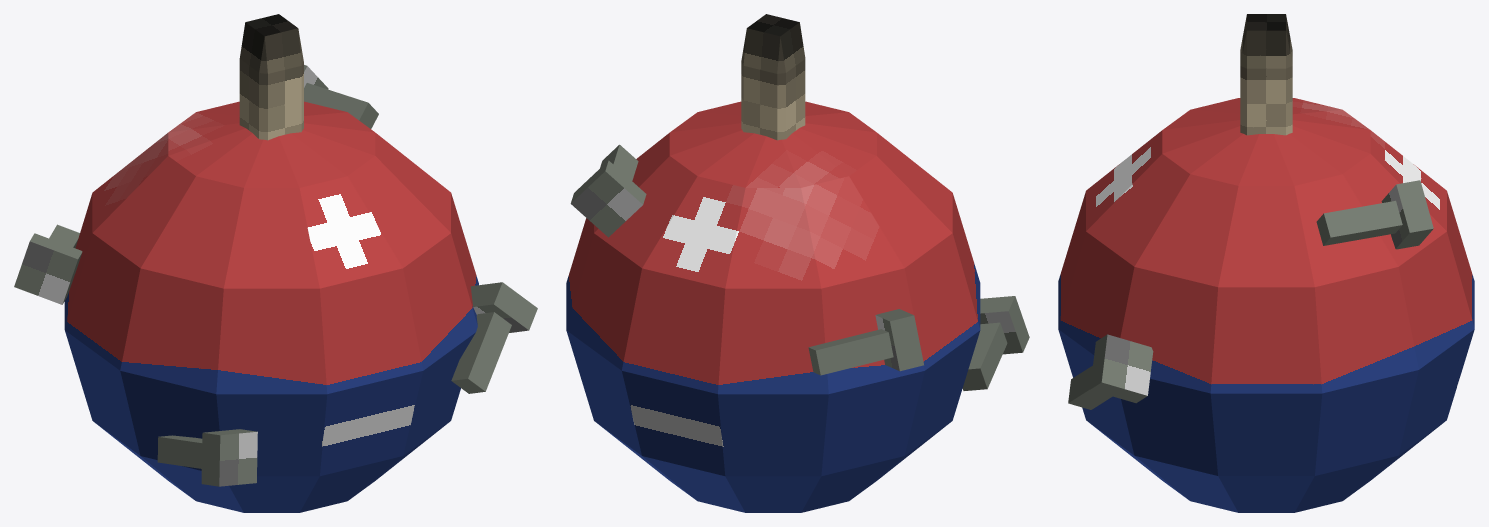
The model's file is magnet.gltf.
The picture shows the model from 3 angles, left to right: view 1: azimuth 30°, elevation 25°; view 2: azimuth 150°, elevation 25°; view 3: azimuth 270°, elevation 25°; orthographic projection.
Visible parts, largest first — view 1: sphere, cube (×6), beveled_cuboid; view 2: sphere, cube (×6), beveled_cuboid; view 3: sphere, cube (×4), beveled_cuboid.
Part boxes in pixels (x1,y1,x2,y2): sphere: [64, 101, 478, 512]; cube (×6): [14, 83, 537, 486]; beveled_cuboid: [239, 14, 303, 140]; sphere: [566, 101, 980, 512]; cube (×6): [570, 144, 1029, 390]; beveled_cuboid: [741, 14, 805, 140]; sphere: [1058, 98, 1474, 512]; cube (×4): [1068, 180, 1433, 409]; beveled_cuboid: [1240, 14, 1292, 135].
Size of the model in its own units: 1.08 by 1.25 by 1.
Materials: 2 (2 with a texture image).
